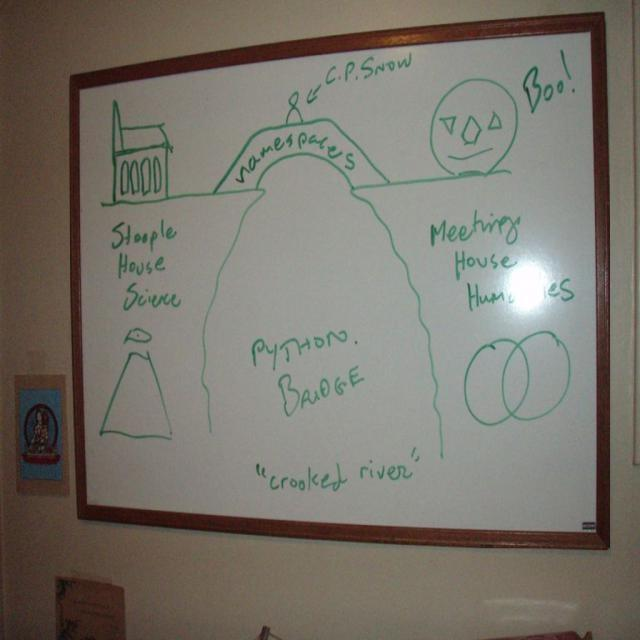Whiteboard: (67, 9, 611, 550)
